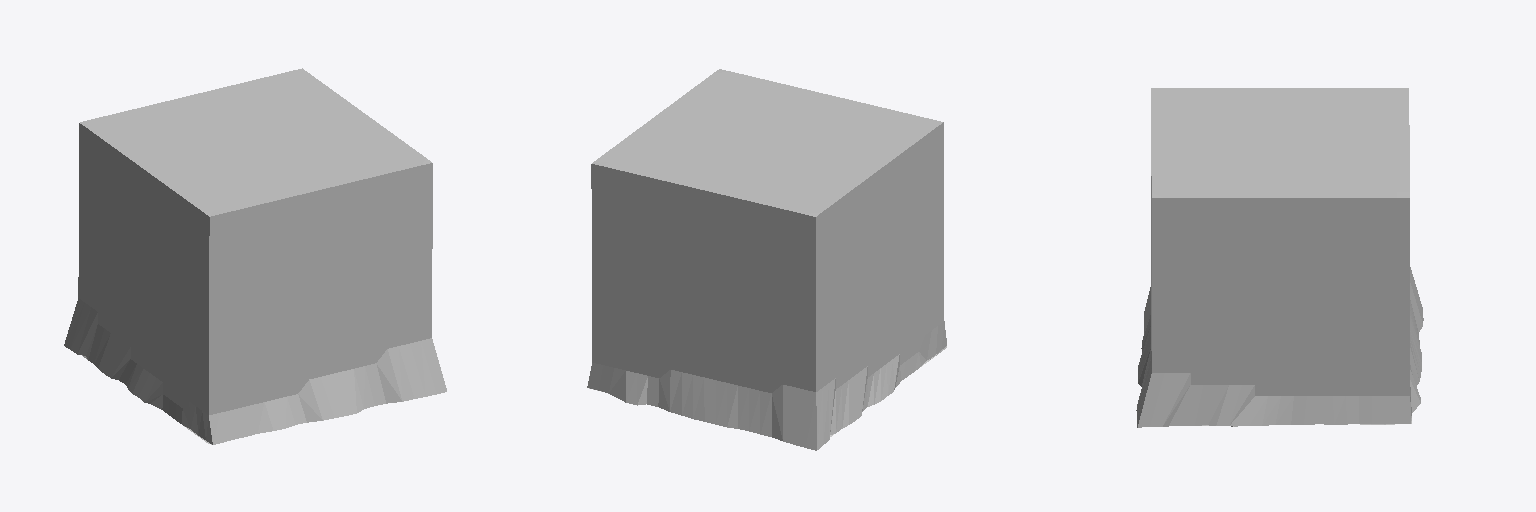
File: mod0136.obj
The picture shows the model from 3 angles: view 1: azimuth 30°, elevation 25°; view 2: azimuth 150°, elevation 25°; view 3: azimuth 270°, elevation 25°; orthographic projection.
Visible parts, largest first — view 1: Box001; view 2: Box001; view 3: Box001.
Part boxes in pixels (left/top/right/bottom): Box001: left=64, top=68, right=446, bottom=444; Box001: left=587, top=69, right=946, bottom=450; Box001: left=1136, top=88, right=1423, bottom=427.
Size of the model in its own units: 0.5799 by 0.5227 by 0.5979.